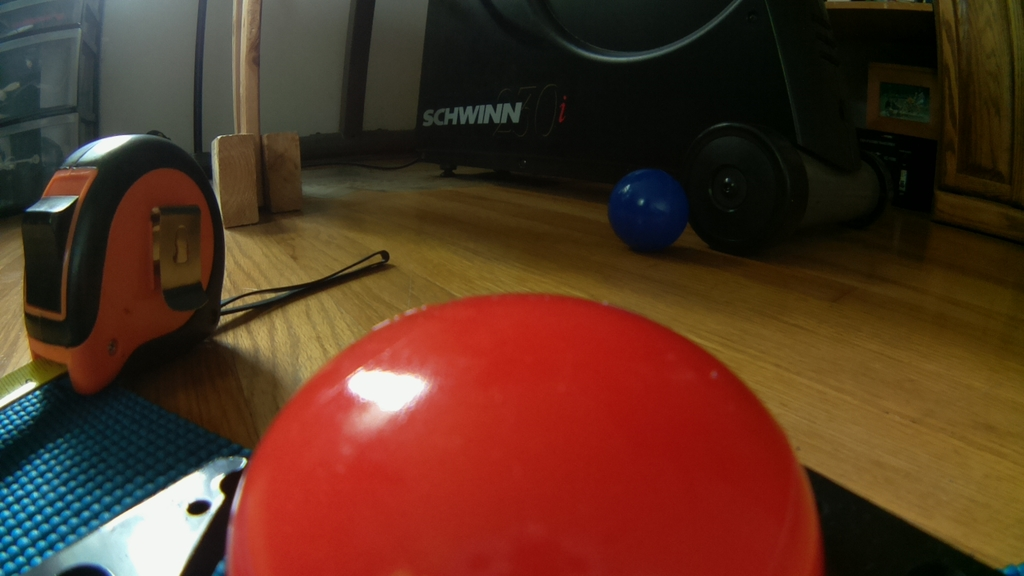ball: (225, 285, 831, 575)
